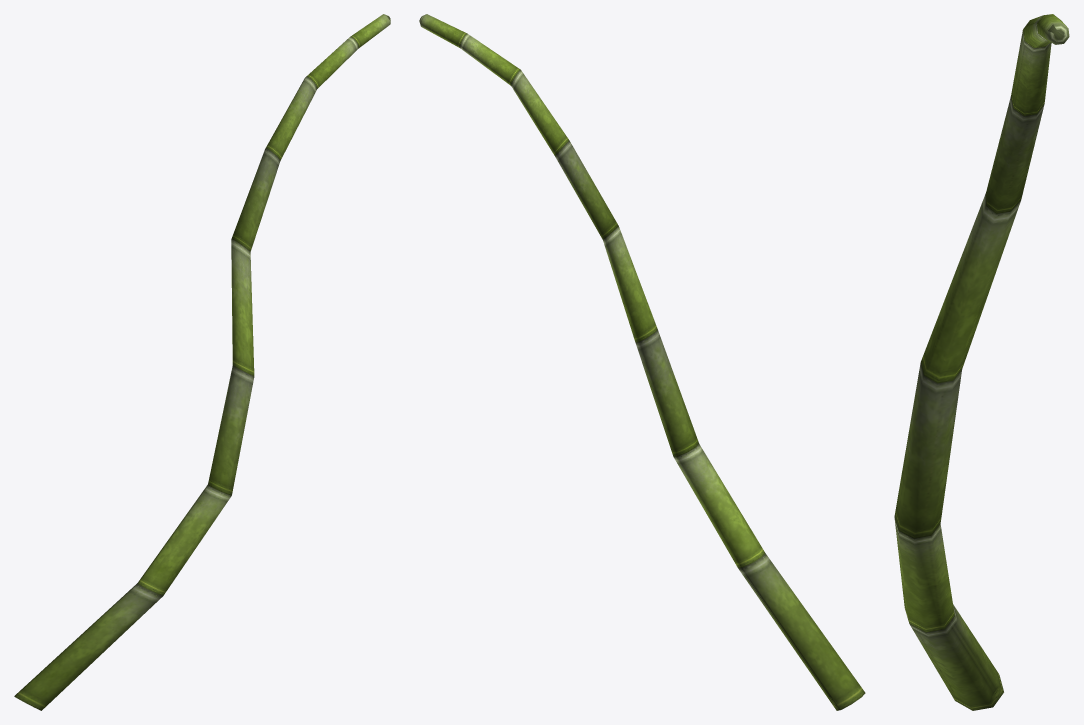
File: BambooSet_part_53.fbx
3 views of the same model, side by side, from view 1: azimuth 30°, elevation 25°; view 2: azimuth 150°, elevation 25°; view 3: azimuth 270°, elevation 25° (orthographic). The views are drawn at different scales.
Visible parts, largest first — view 1: Object_87.001; view 2: Object_87.001; view 3: Object_87.001.
Boxes of the visible parts, box(x1,y1,x2,y2) form: Object_87.001: box(14, 14, 390, 710); Object_87.001: box(419, 14, 865, 710); Object_87.001: box(894, 14, 1069, 710).
Bounding box in the file's own units: 234 × 331 × 52.84.
